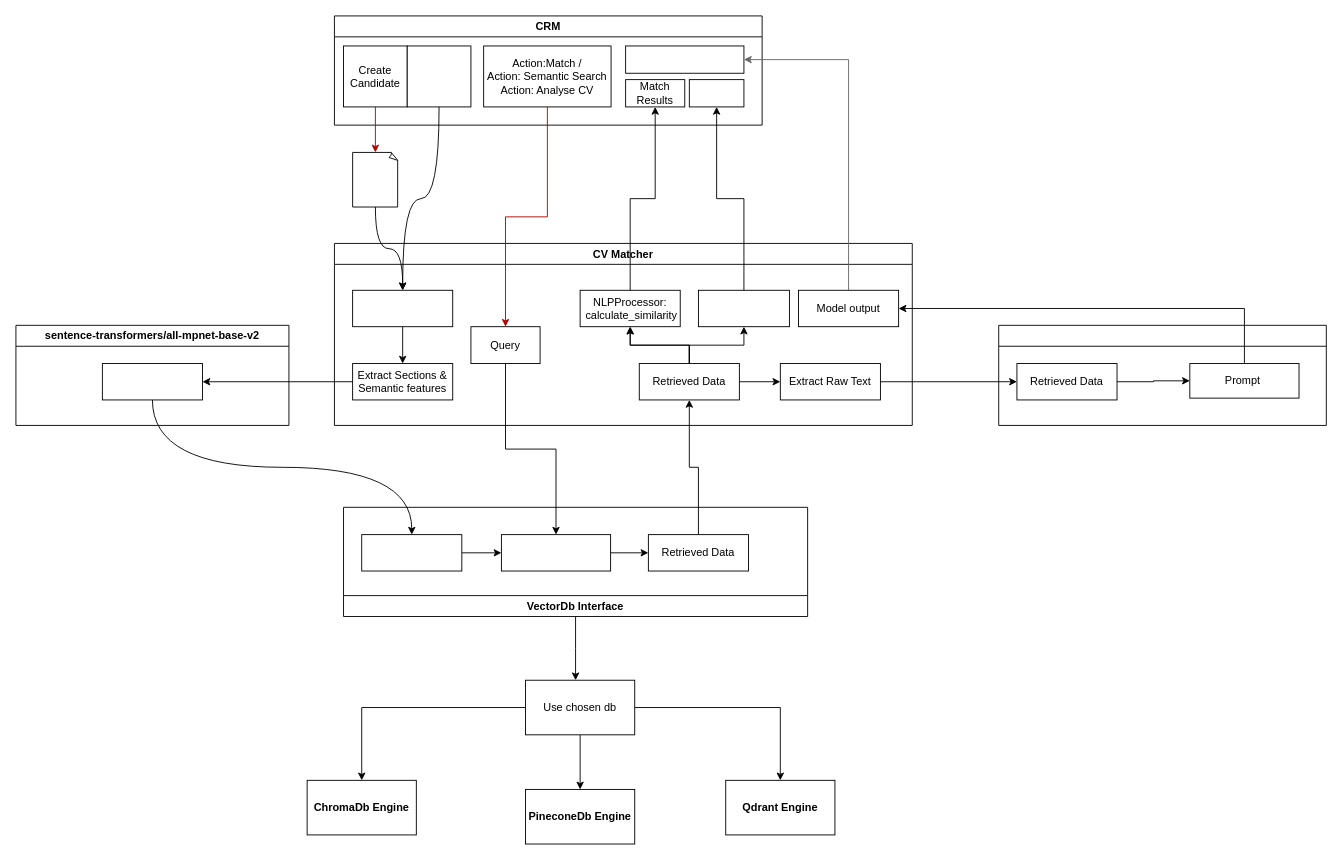
Image size: 1342x860. Some labels were removed from this diagram. The shapes that lost their labels are listed below. From the top down, each one's box as (x1, y1, x2, y2) in pixels, then its label:
(406, 45, 471, 107): Create Opportunity
(625, 45, 744, 73): CV Analysis
(688, 79, 744, 107): Search Results
(352, 152, 398, 207): upload
(352, 289, 453, 327): Parse text
(698, 289, 789, 327): Process Documents
(101, 363, 202, 400): Generate Embeddings
(998, 324, 1326, 425): LLM
(361, 534, 462, 571): Vectors
(500, 534, 611, 571): Retrieval
